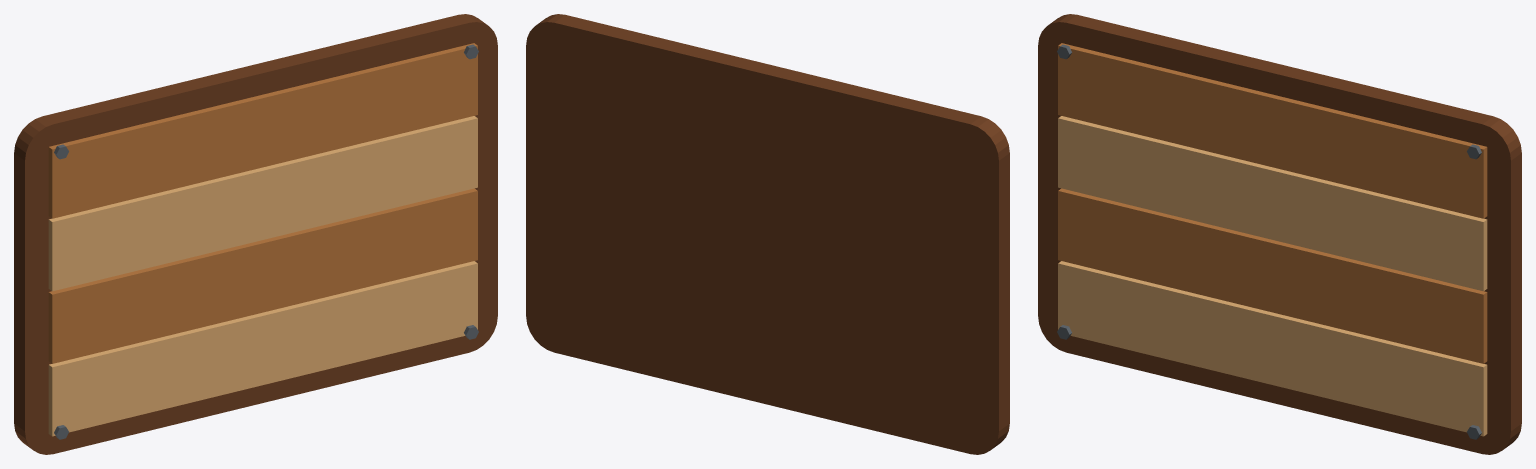
The model's file is panel_madera.glb.
The picture shows the model from 3 angles, left to right: view 1: azimuth 30°, elevation 25°; view 2: azimuth 150°, elevation 25°; view 3: azimuth 330°, elevation 25°; orthographic projection.
Parts seen in each view (by area): view 1: panel_madera_ui_madera, panel_madera_ui_madera_clara, panel_madera_ui_madera_osc, panel_madera_metal_osc; view 2: panel_madera_ui_madera_osc; view 3: panel_madera_ui_madera, panel_madera_ui_madera_clara, panel_madera_ui_madera_osc, panel_madera_metal_osc.
Boxes of the visible parts, bbox=[...] form: panel_madera_ui_madera: bbox=[48, 43, 477, 363]; panel_madera_ui_madera_clara: bbox=[48, 116, 477, 436]; panel_madera_ui_madera_osc: bbox=[14, 14, 497, 454]; panel_madera_metal_osc: bbox=[54, 44, 478, 439]; panel_madera_ui_madera_osc: bbox=[526, 14, 1009, 454]; panel_madera_ui_madera: bbox=[1058, 43, 1487, 363]; panel_madera_ui_madera_clara: bbox=[1058, 116, 1487, 436]; panel_madera_ui_madera_osc: bbox=[1038, 14, 1521, 454]; panel_madera_metal_osc: bbox=[1057, 44, 1481, 439].
Size of the model in its own units: 3 by 2 by 0.19.
